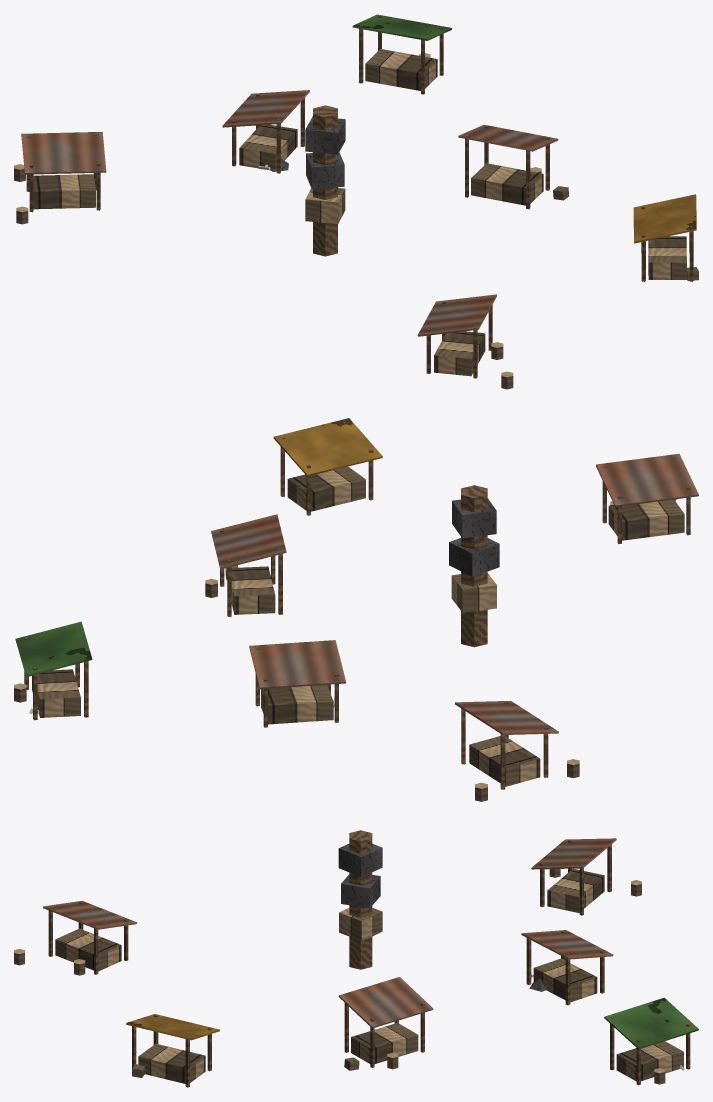
File: cm_goblin_market.glb
3 renders of one model, top to bottom at view 1: azimuth 30°, elevation 25°; view 2: azimuth 150°, elevation 25°; view 3: azimuth 270°, elevation 25°, orthographic. The views are drawn at different scales.
Parts seen in each view (by area): view 1: cm_goblin_market; view 2: cm_goblin_market; view 3: cm_goblin_market.
Part boxes in pixels (box(x1,y1,x2,y2)): cm_goblin_market: box(14, 14, 698, 389); cm_goblin_market: box(14, 418, 698, 801); cm_goblin_market: box(14, 830, 698, 1087).
Size of the model in its own units: 1.16 by 0.321 by 1.55.
Materials: 1 (1 with a texture image).
